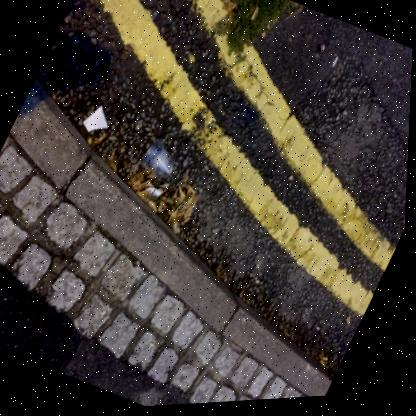Paper: (83, 107, 107, 132)
Plastic: (142, 142, 174, 180)
Waste: (145, 189, 162, 203)
